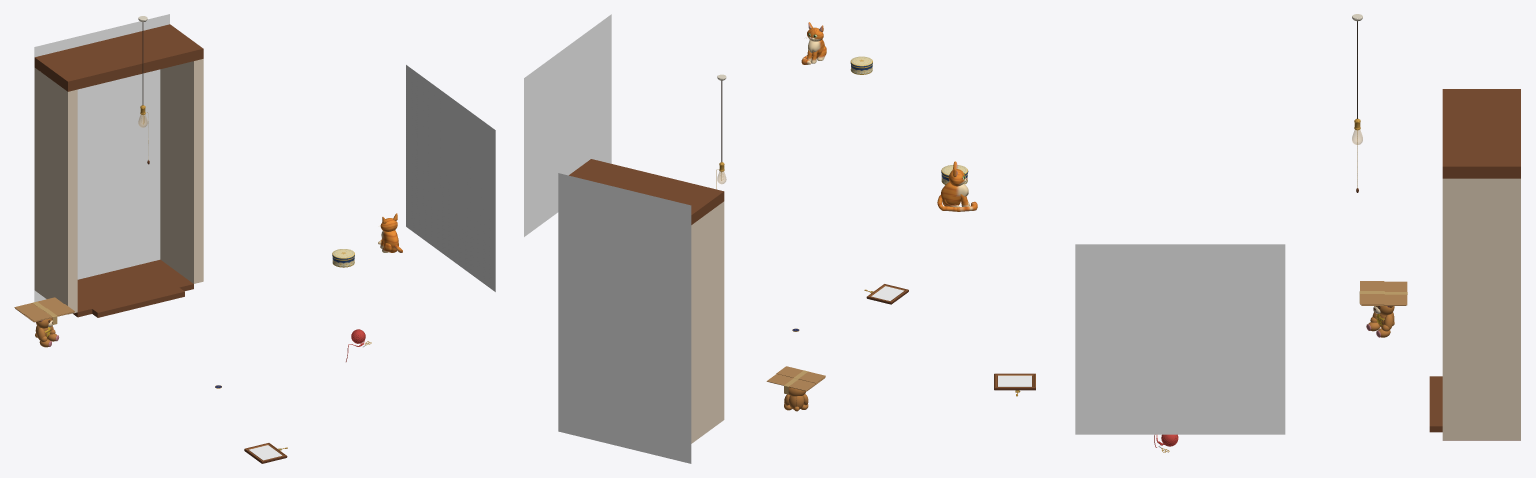
File: room_live_d.glb
3 views of the same model, side by side, from view 1: azimuth 30°, elevation 25°; view 2: azimuth 150°, elevation 25°; view 3: azimuth 270°, elevation 25° (orthographic). The views are drawn at different scales.
Visible parts, largest first — view 1: backdrop_hallway, backdrop_sky, photo_final, teddy; view 2: backdrop_hallway, backdrop_sky, photo_final, teddy; view 3: backdrop_sky, backdrop_hallway, photo_final, teddy.
Boxes of the visible parts, x1,y1,x2,y2 form: backdrop_hallway: [34, 14, 203, 317]; backdrop_sky: [406, 65, 495, 291]; photo_final: [244, 443, 287, 463]; teddy: [35, 318, 59, 347]; backdrop_hallway: [558, 159, 724, 463]; backdrop_sky: [524, 14, 611, 236]; photo_final: [866, 284, 908, 304]; teddy: [784, 387, 808, 411]; backdrop_sky: [1075, 244, 1285, 434]; backdrop_hallway: [1429, 89, 1520, 440]; photo_final: [994, 373, 1035, 390]; teddy: [1366, 306, 1394, 337].
Size of the model in its own units: 3.51 by 3.3 by 4.45.
Materials: 42 (3 with a texture image).
